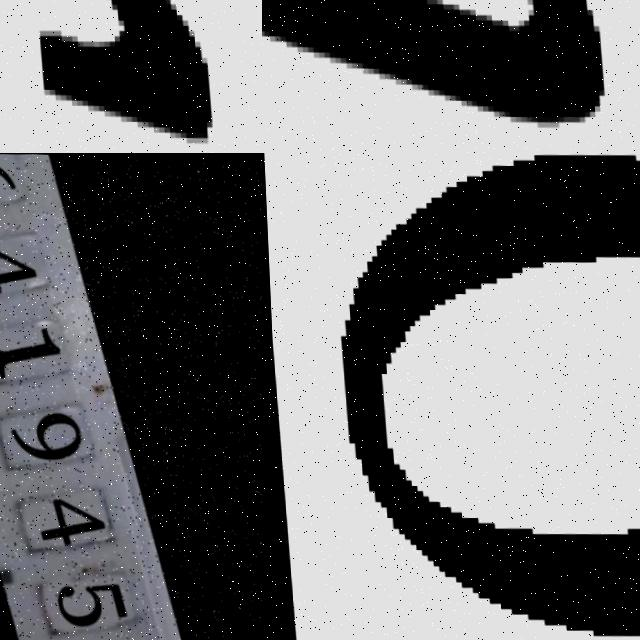1: (0, 298, 82, 387)
4: (11, 469, 123, 558), (0, 218, 55, 307)
5: (32, 554, 141, 640)
6: (0, 153, 32, 218)
9: (0, 387, 98, 476)
N: (262, 0, 616, 143)
O: (332, 153, 640, 638)
R: (0, 0, 223, 153)
